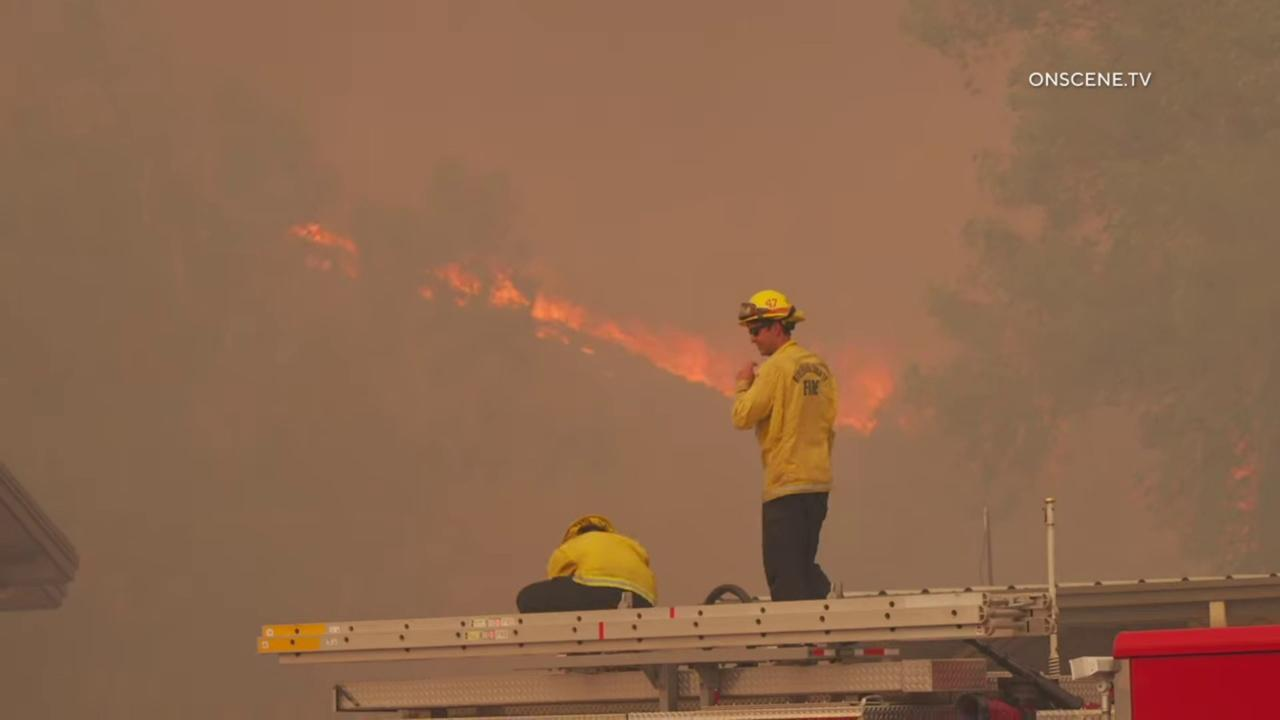fire: (492, 261, 896, 436), (282, 217, 365, 279), (415, 259, 483, 310), (1230, 438, 1263, 512)
smoke: (0, 0, 1280, 720)
